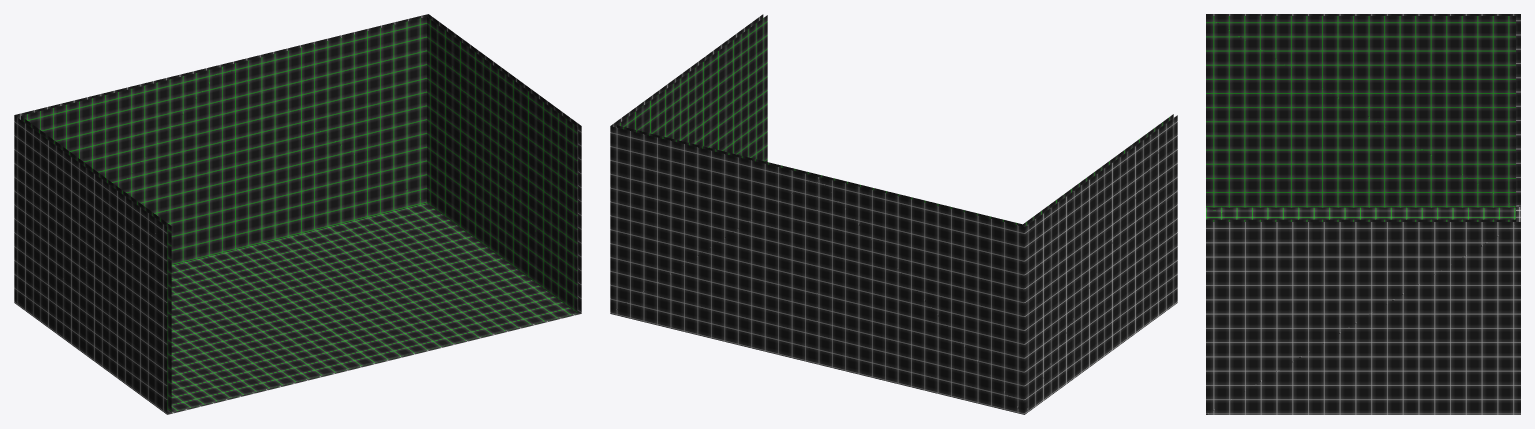
Rendered from TrainingStage_Background.fbx.
The picture shows the model from 3 angles, left to right: view 1: azimuth 30°, elevation 25°; view 2: azimuth 150°, elevation 25°; view 3: azimuth 270°, elevation 25°; orthographic projection. The views are drawn at different scales.
Visible parts, largest first — view 1: PolygonGrid_Glow, PolygonGrid; view 2: PolygonGrid, PolygonGrid_Glow; view 3: PolygonGrid_Glow, PolygonGrid.
Boxes of the visible parts, x1=… form: PolygonGrid_Glow: x1=21, y1=17, x2=577, y2=412; PolygonGrid: x1=14, y1=14, x2=581, y2=414; PolygonGrid: x1=610, y1=14, x2=1177, y2=414; PolygonGrid_Glow: x1=617, y1=15, x2=1173, y2=226; PolygonGrid_Glow: x1=1206, y1=16, x2=1515, y2=221; PolygonGrid: x1=1206, y1=14, x2=1520, y2=414.
Bounding box in the file's own units: 2250 × 975 × 1440.
Materials: 2 (2 with a texture image).
